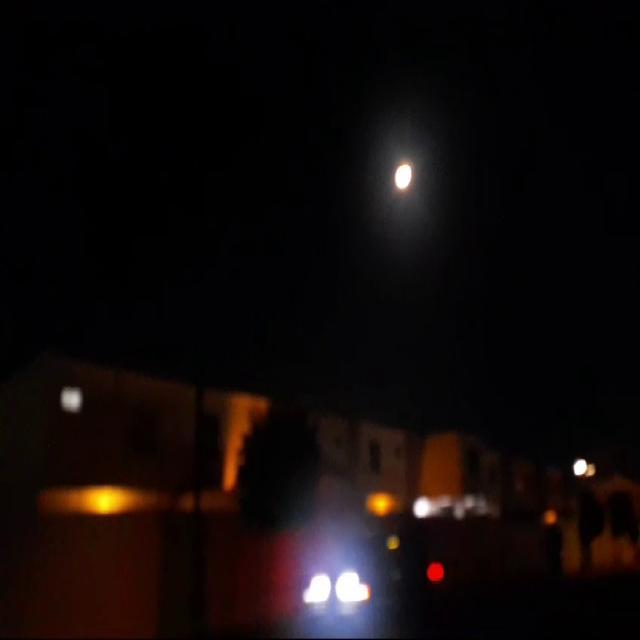moon: (393, 163, 413, 197)
